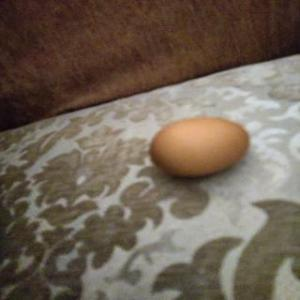egg: (149, 115, 251, 179)
